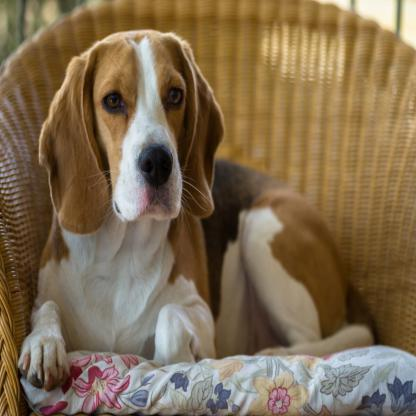Bigl: (18, 22, 379, 389)
